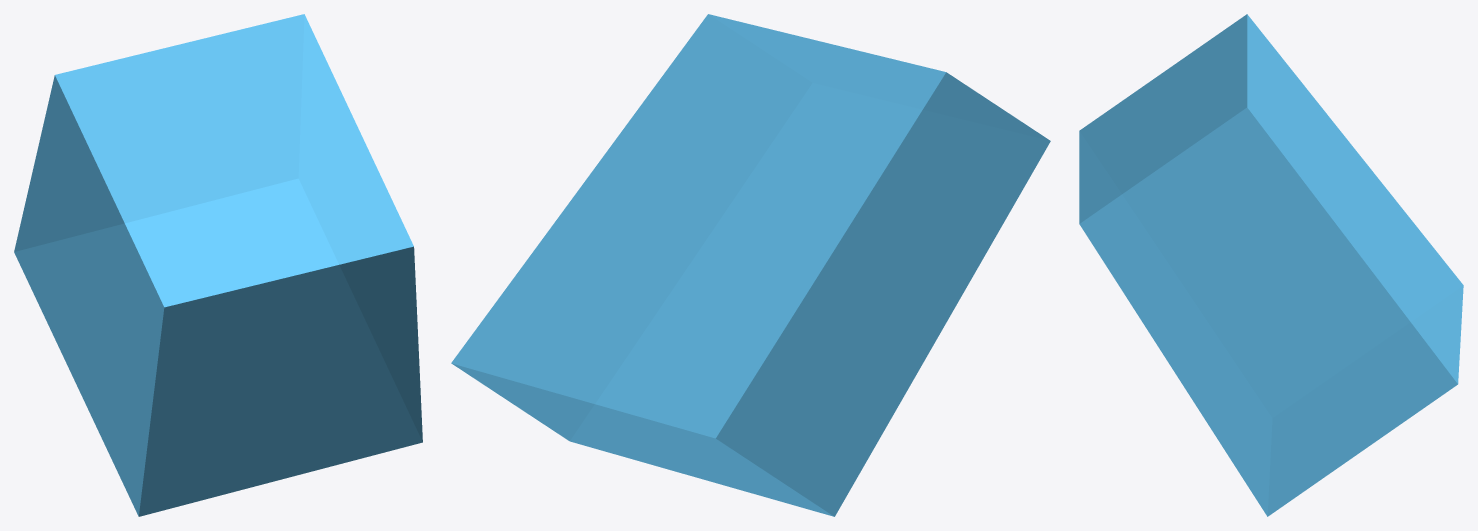
Rendered from Event_421278790_HBrechit_19.fbx.
3 renders of one model, left to right at view 1: azimuth 30°, elevation 25°; view 2: azimuth 150°, elevation 25°; view 3: azimuth 270°, elevation 25°, orthographic. The views are drawn at different scales.
Parts seen in each view (by area): view 1: Model; view 2: Model; view 3: Model.
Part boxes in pixels (bbox=[...]): Model: bbox=[14, 14, 422, 516]; Model: bbox=[451, 14, 1050, 516]; Model: bbox=[1079, 14, 1463, 516].
Bounding box in the file's own units: 0.6407 × 0.7682 × 0.7296.
